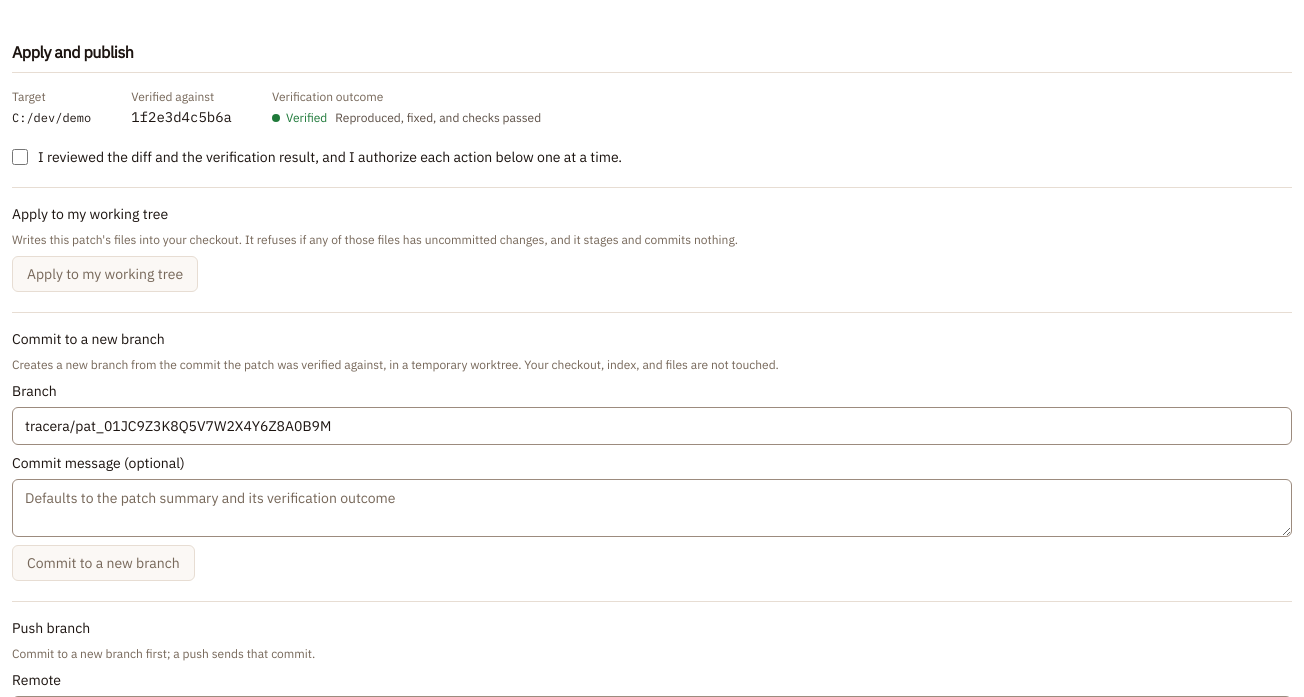
Test: the apply and publish panel › shows the stable code and the way forward when the server refuses
Step 1. Click the checkbox → (20, 157), box [12,149,28,165]
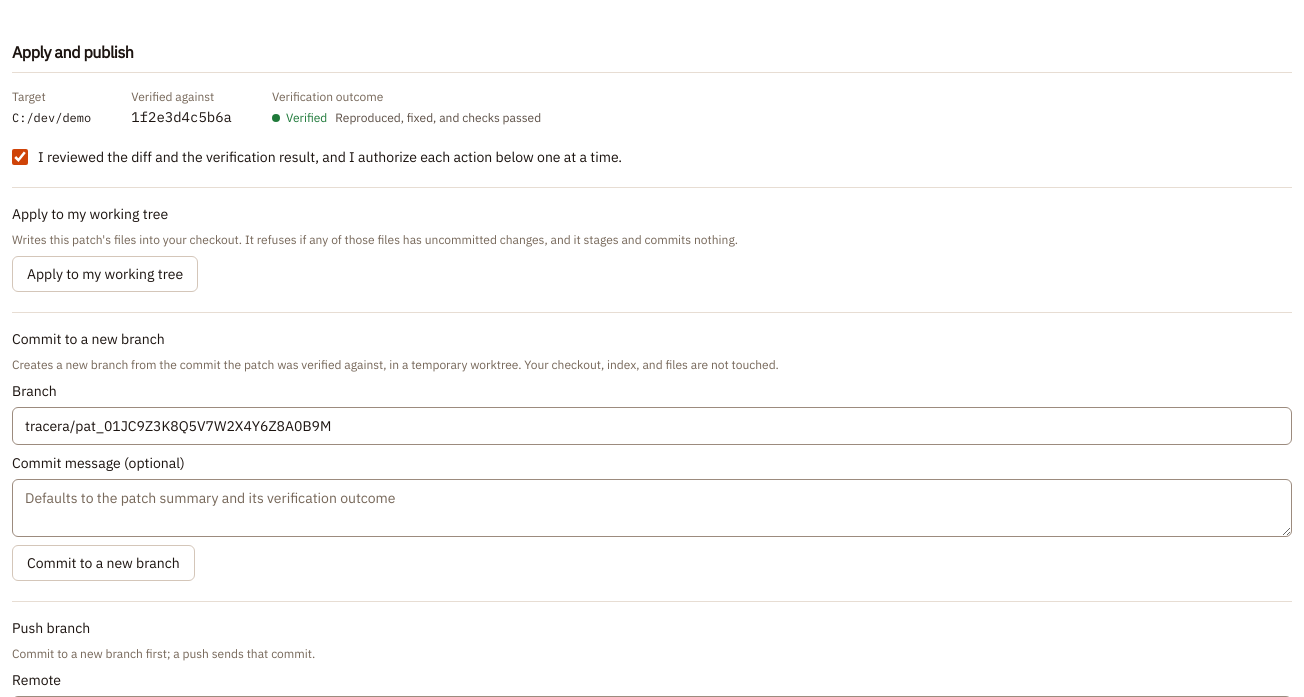
Step 2. Click the button "Apply to my working tree" → (105, 274), box [12,256,198,292]
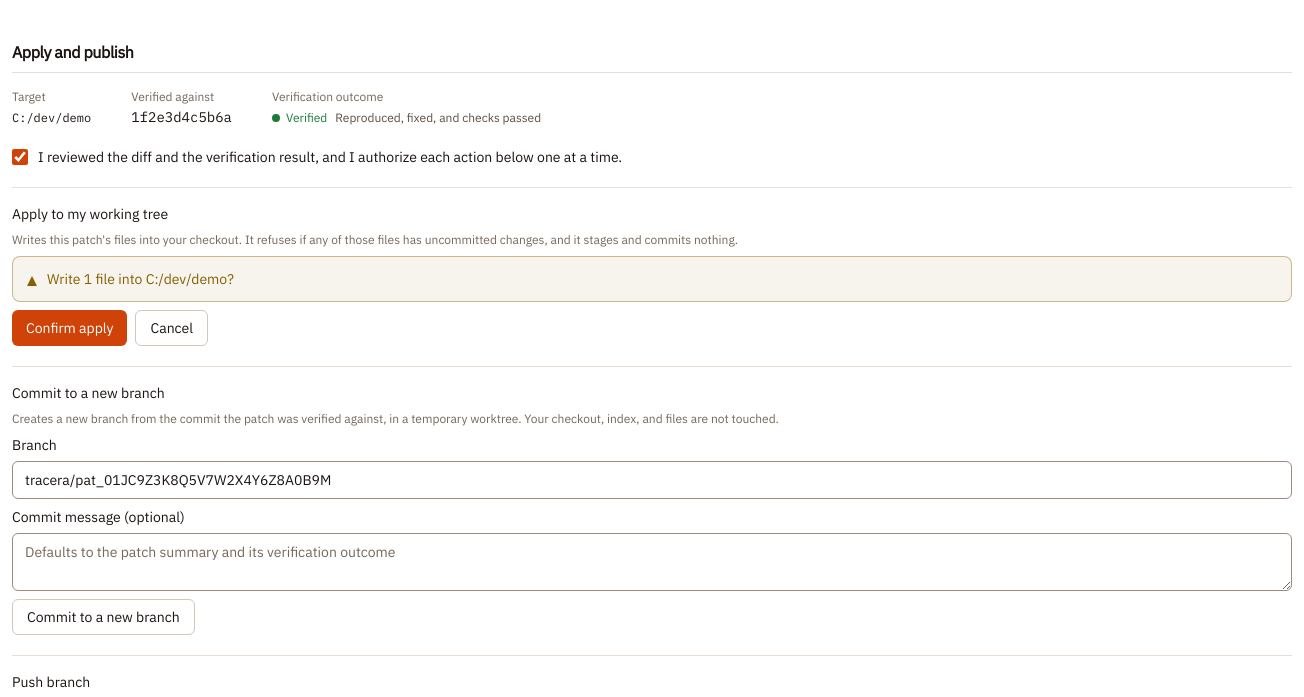
Step 3. Click the button "Confirm apply" → (70, 328), box [12,310,128,346]
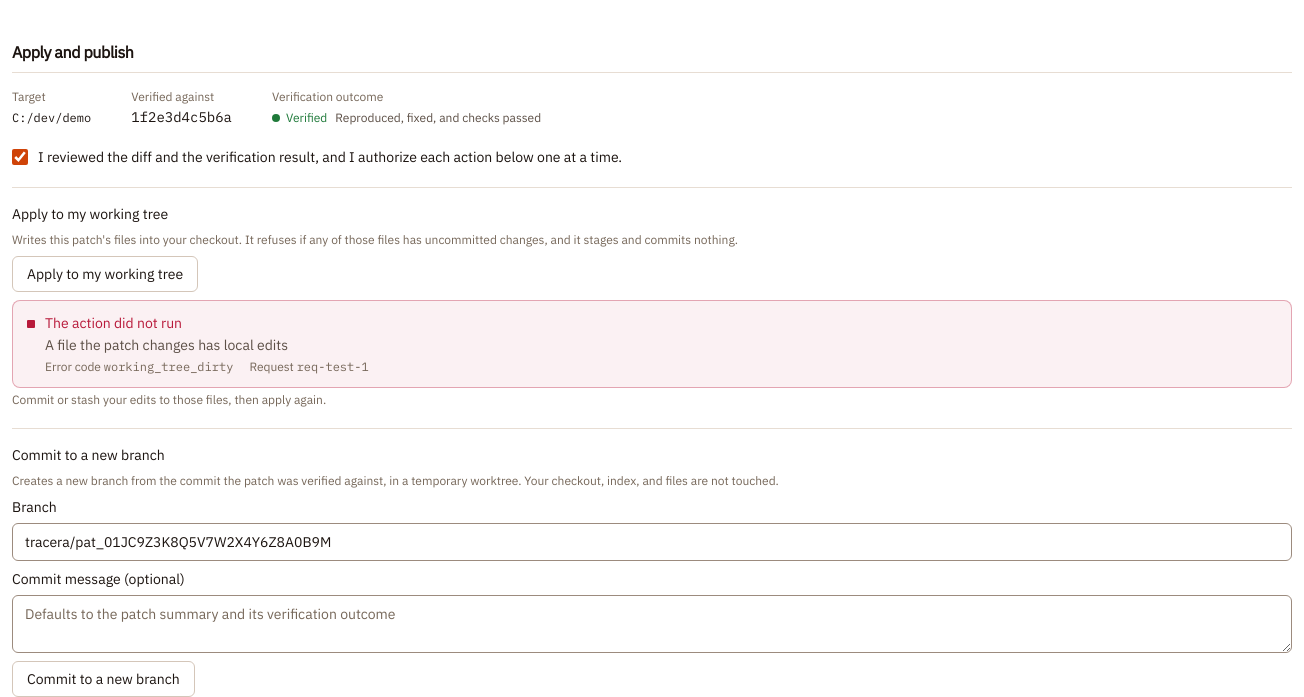
Expected: the text "working_tree_dirty" is shown, [104,359,233,374]
Expected: the text "Commit or stash your edits to those files, then apply again." is shown, [12,392,326,407]
